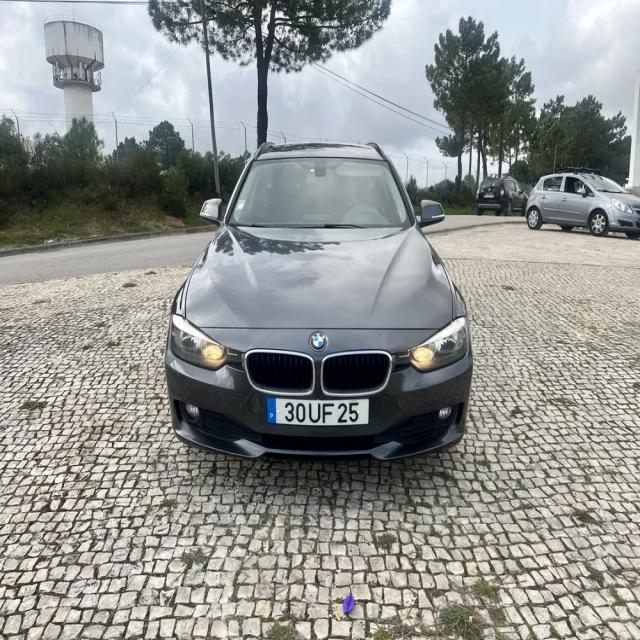portuguese-license-plates: (264, 393, 373, 432)
